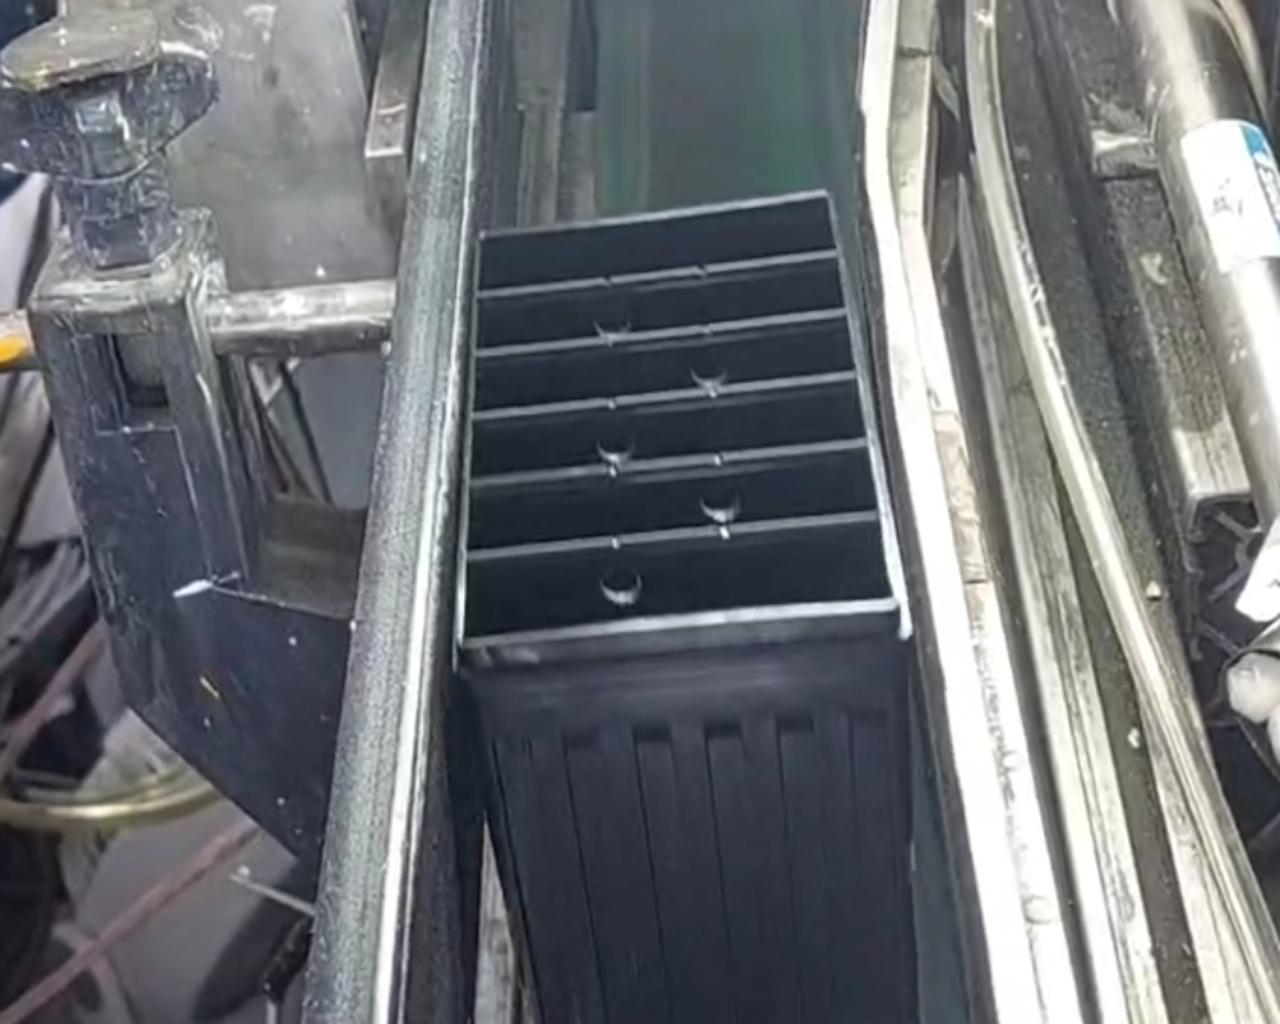box: (433, 181, 928, 692)
round: (685, 469, 754, 528), (586, 551, 650, 612), (586, 410, 645, 467), (584, 290, 643, 344), (679, 344, 738, 392)
